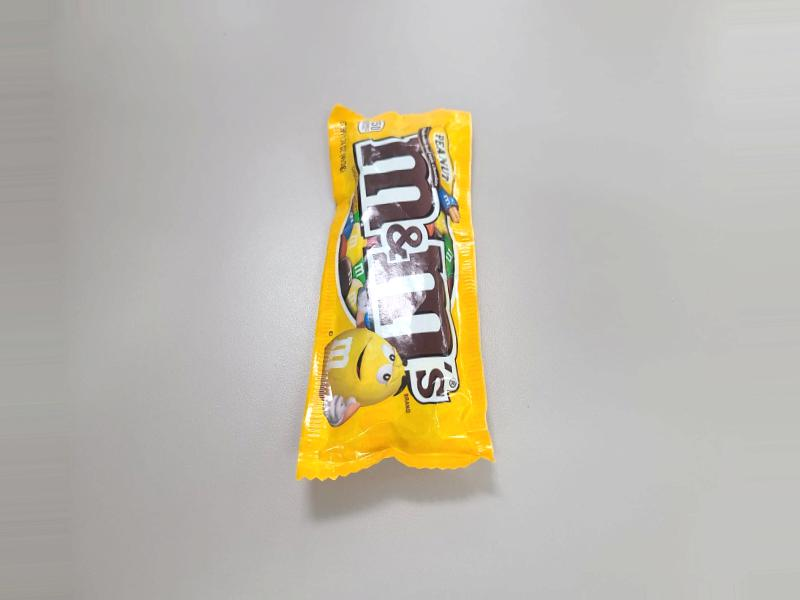m&m: (313, 125, 490, 472)
